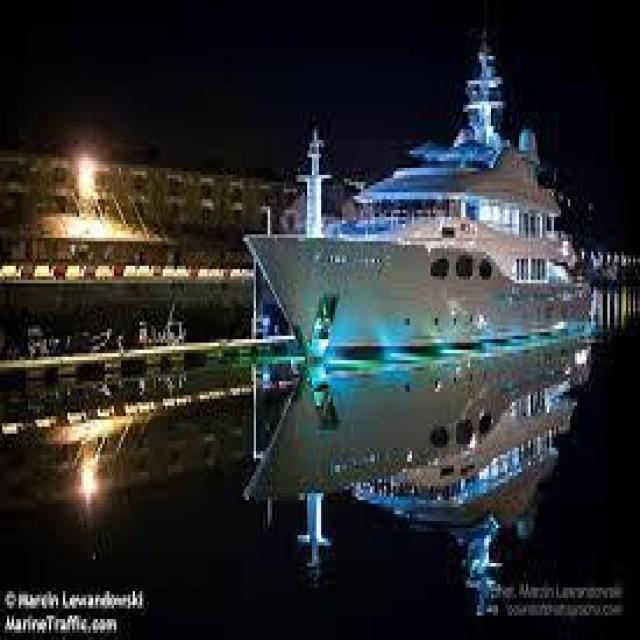other: (70, 148, 102, 243), (71, 455, 101, 521)
